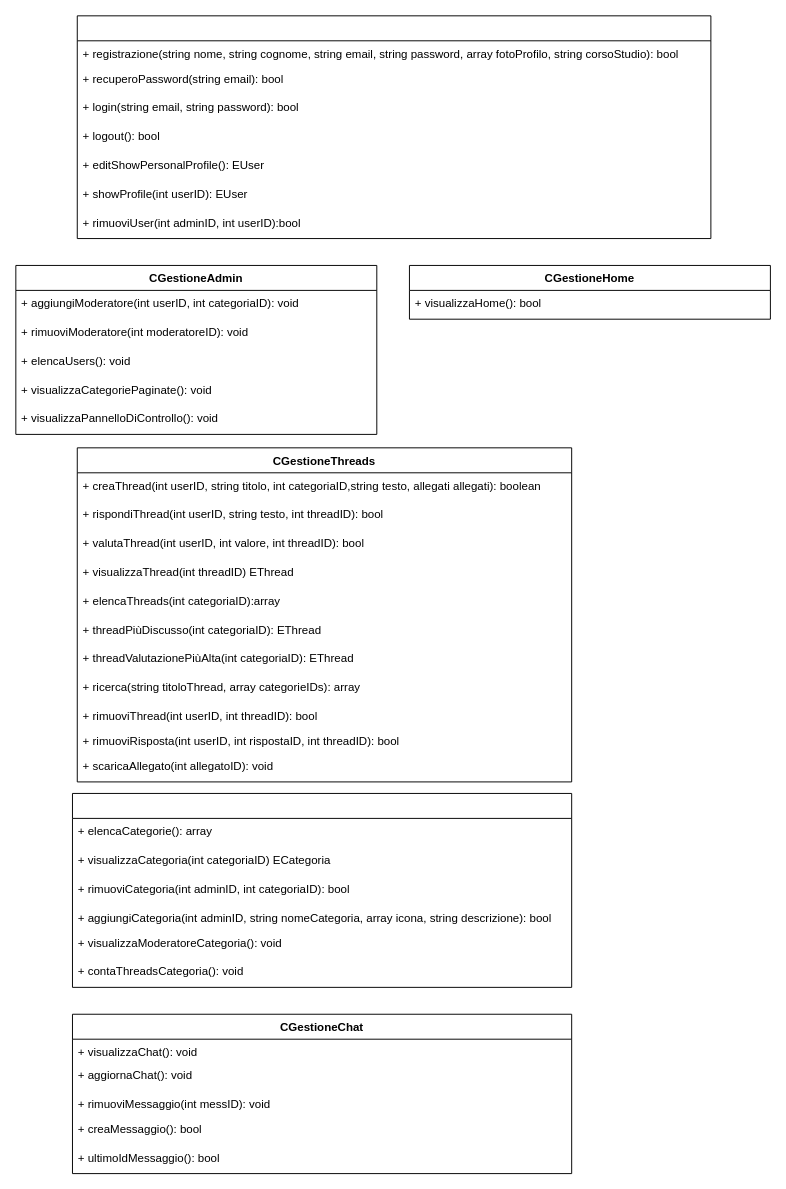
This 786x1189 diagram has some shape labels left out. Each missing label, with the box of its shape:
CGestioneCategorie: (72, 792, 572, 987)
CGestioneUtenti: (76, 15, 711, 239)
